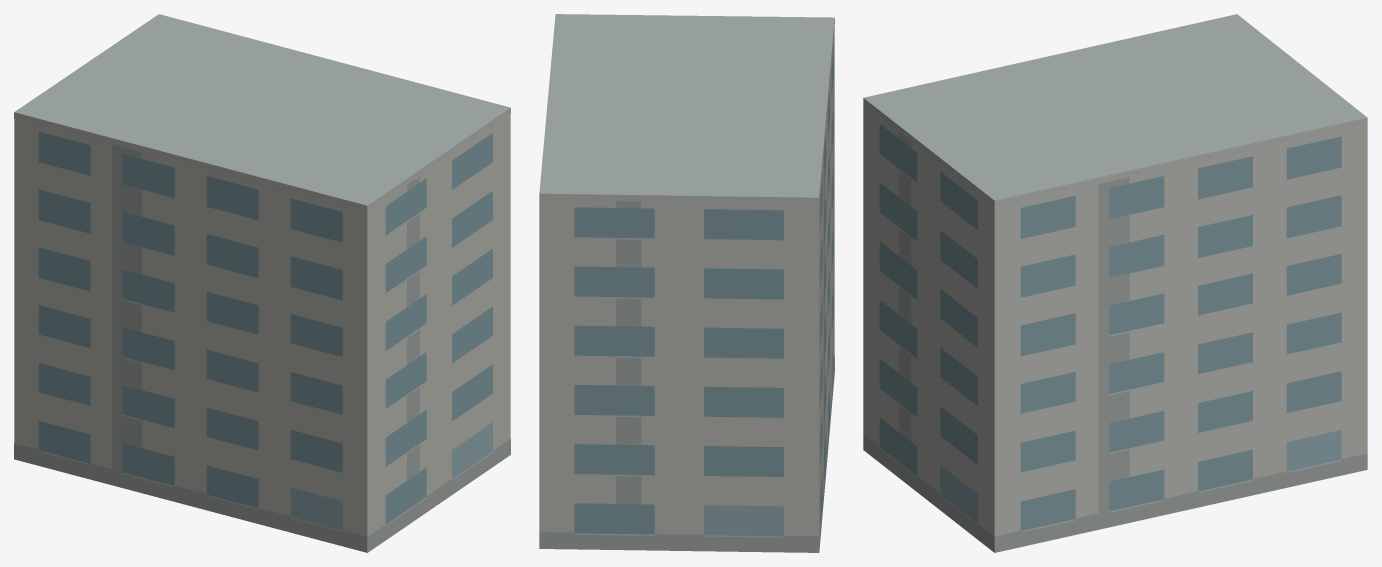
Rendered from survey-upis-32893323.glb.
The picture shows the model from 3 angles, left to right: view 1: azimuth 30°, elevation 25°; view 2: azimuth 150°, elevation 25°; view 3: azimuth 270°, elevation 25°; orthographic projection. The views are drawn at different scales.
Visible parts, largest first — view 1: survey-upis-32893323.tmp; view 2: survey-upis-32893323.tmp; view 3: survey-upis-32893323.tmp.
Part boxes in pixels (x1,y1,x2,y2): survey-upis-32893323.tmp: (14,14,510,552); survey-upis-32893323.tmp: (539,14,834,552); survey-upis-32893323.tmp: (863,14,1367,552).
Size of the model in its own units: 15.02 by 13.2 by 17.14.
